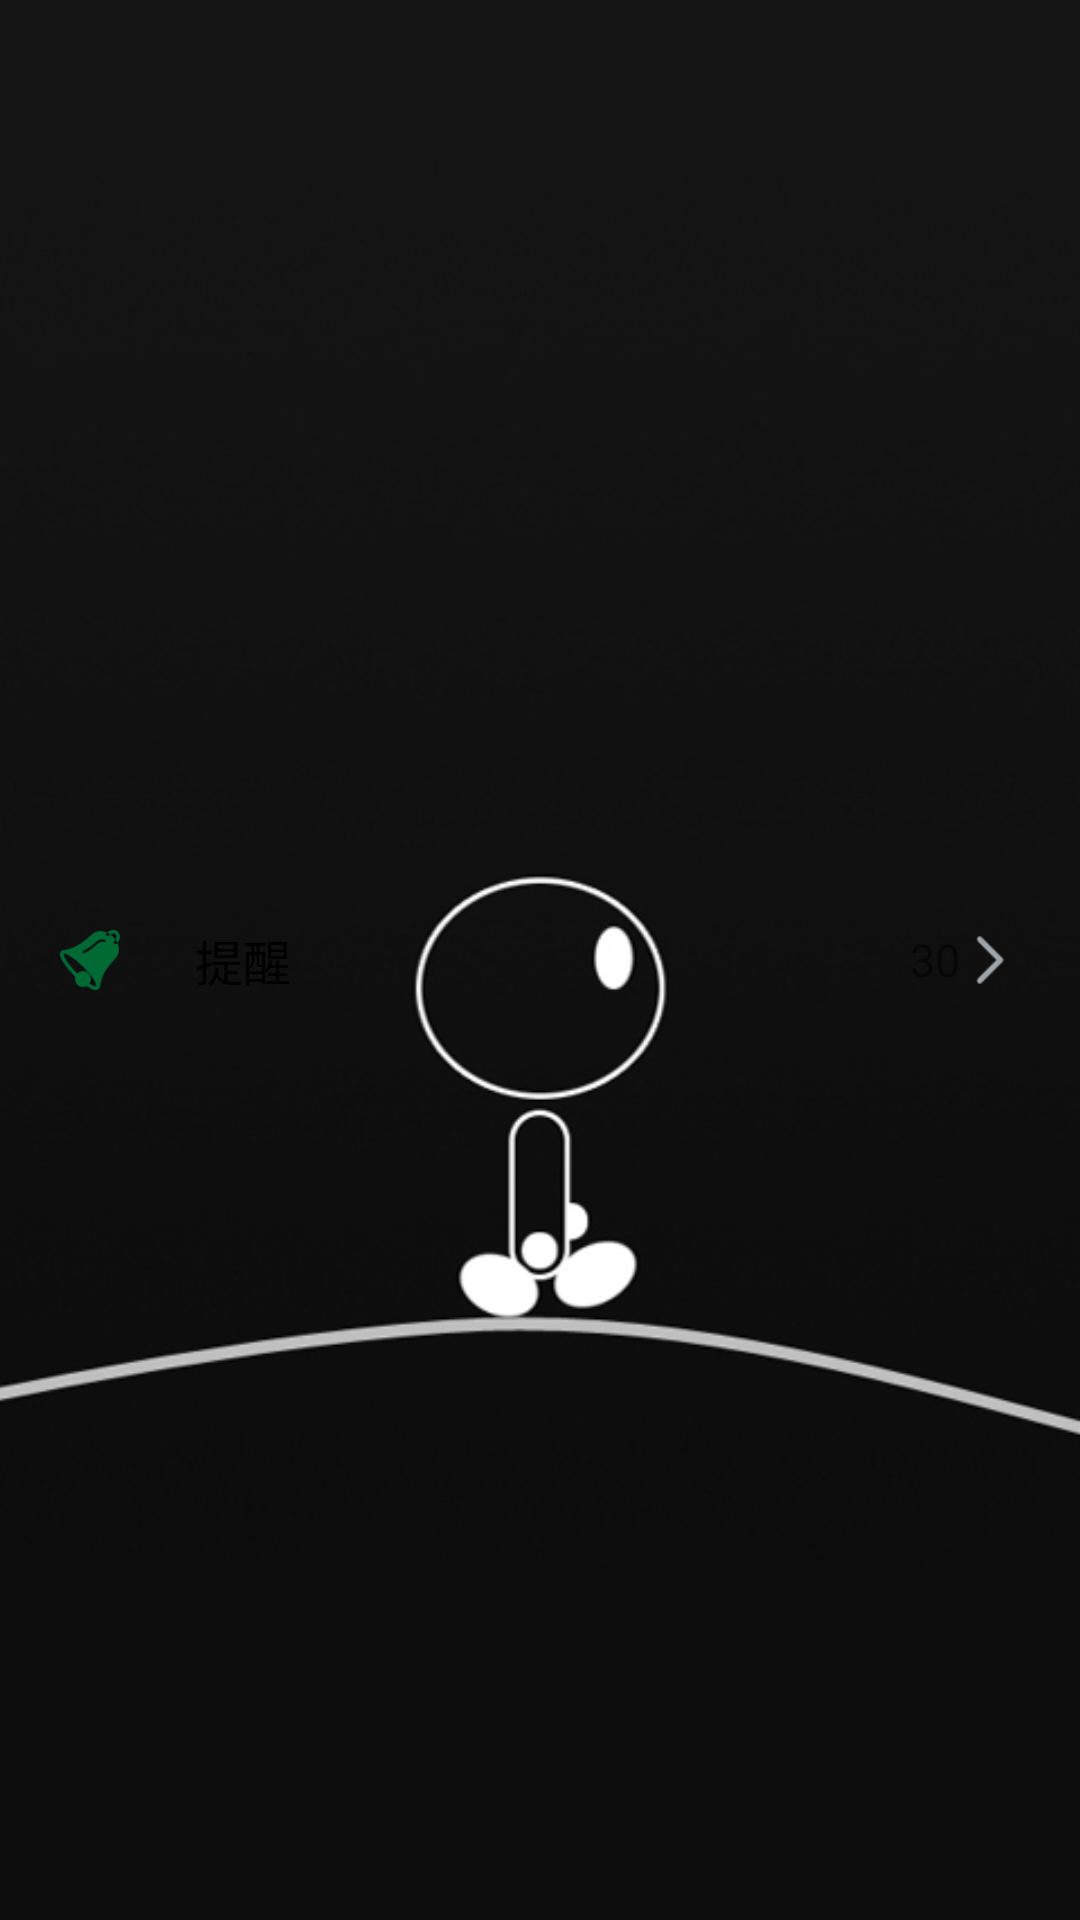

Point at icon controls on the screen. Image size 1080×1920, points as point (x, y).
left remind: point (90, 960)
right: point (990, 960)
